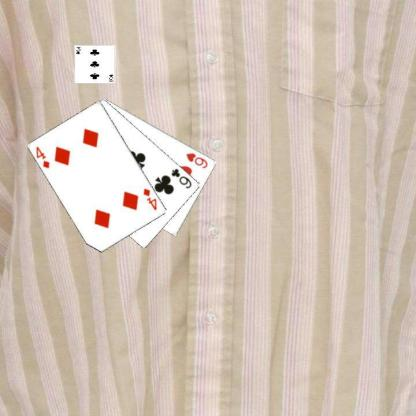4D: (33, 144, 51, 170), (141, 186, 158, 212)
6C: (169, 166, 193, 189)
6H: (184, 151, 209, 170)
